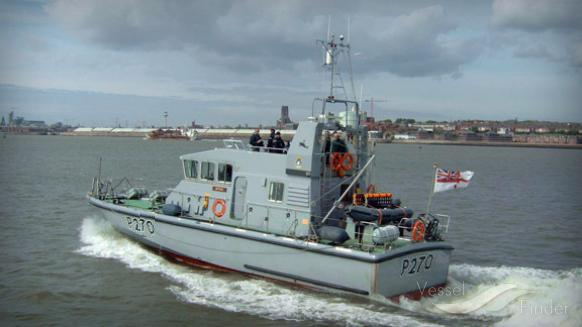OCR: (394, 252, 440, 280), (122, 212, 155, 238)
